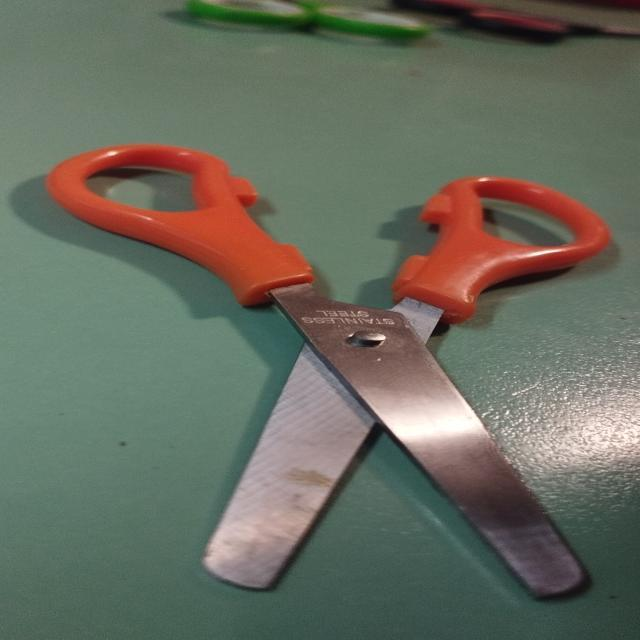tesoura: (36, 135, 627, 607)
